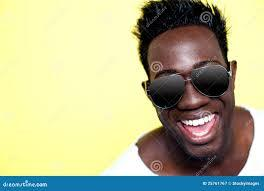sunglasses: (139, 61, 239, 114)
